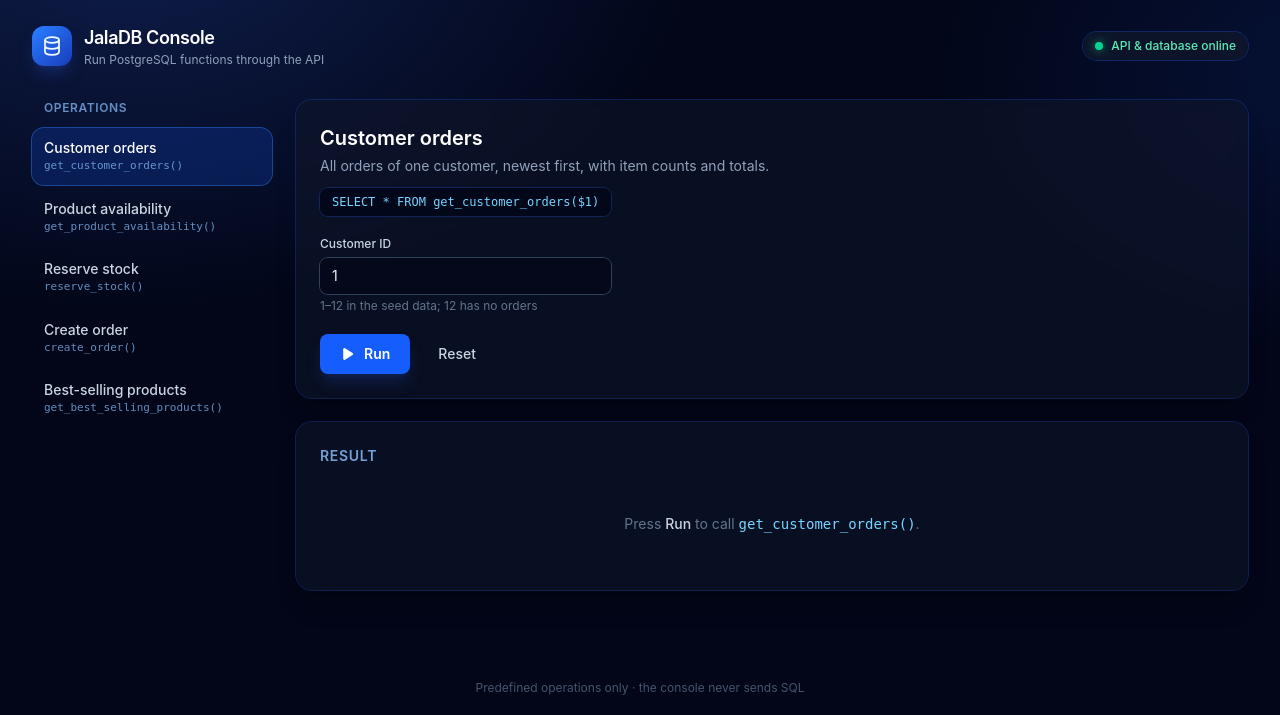
Scenario: App › runs the selected operation and shows its rows
Click the button "Run". click: {"x": 365, "y": 354}
box: [320,334,410,374]
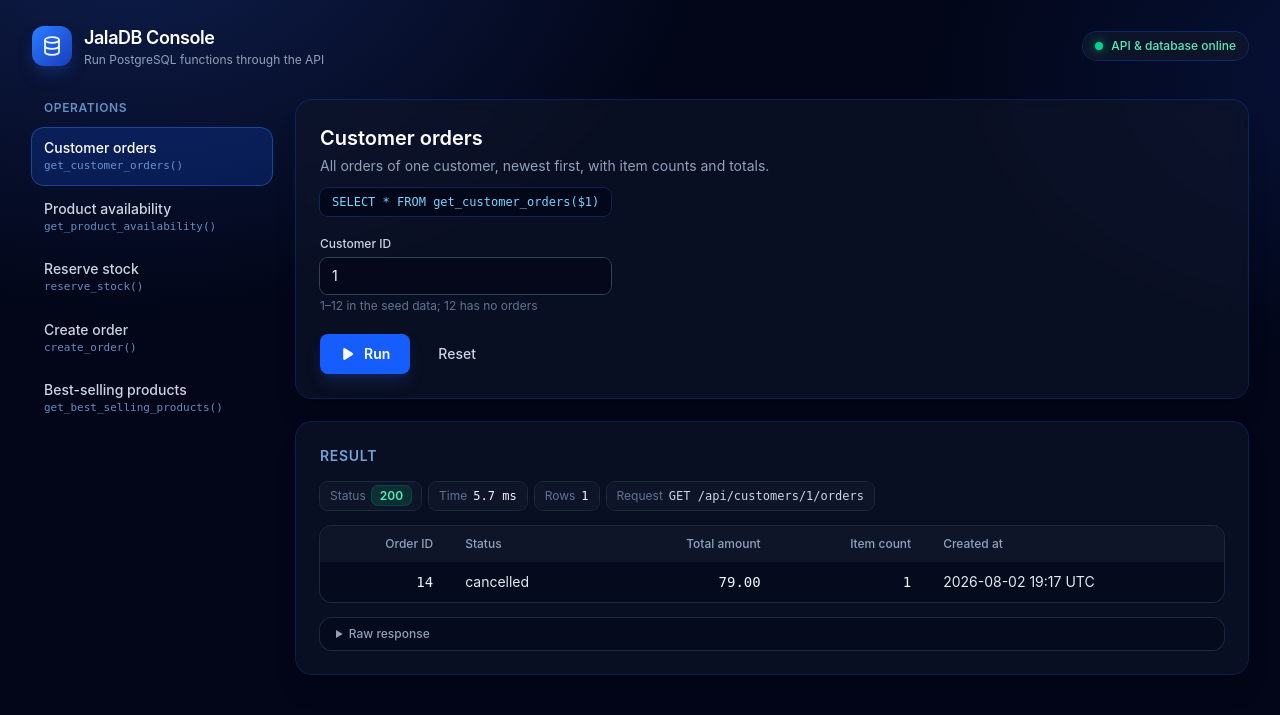
Result: the text "cancelled" is shown at [449,562,604,602]
